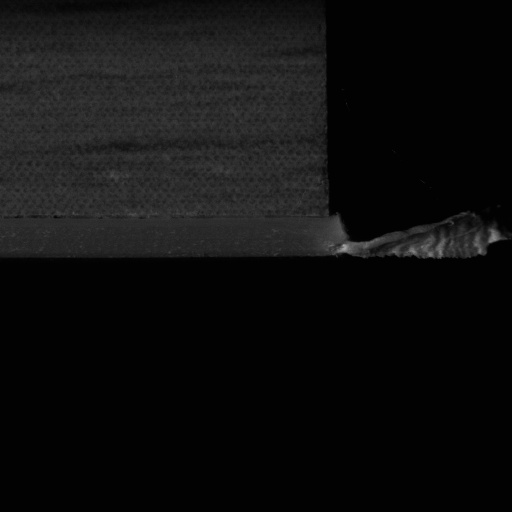changdai: (329, 212, 505, 261)
